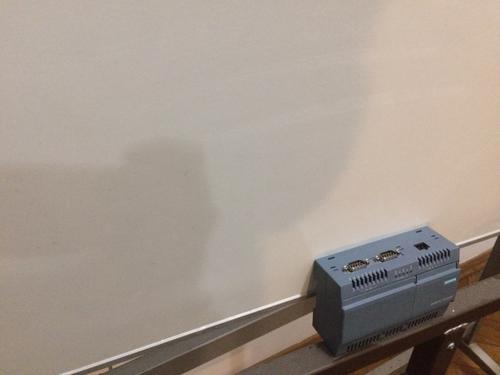iot2000: (311, 225, 461, 357)
